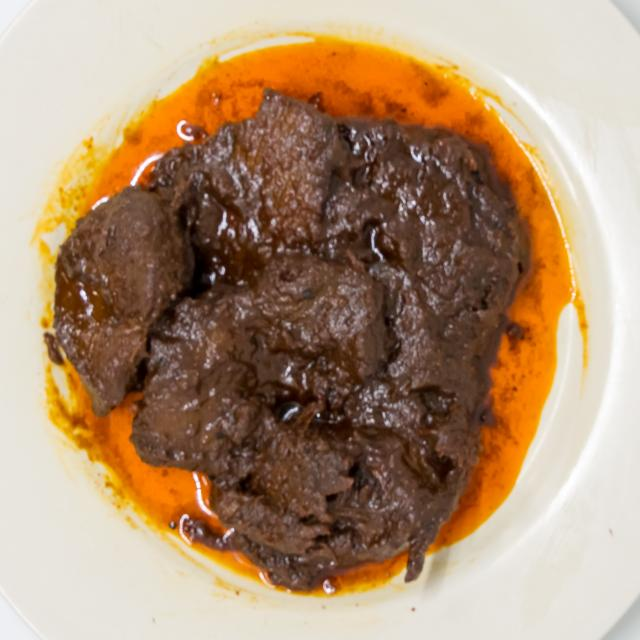Rendang: (42, 71, 544, 599)
